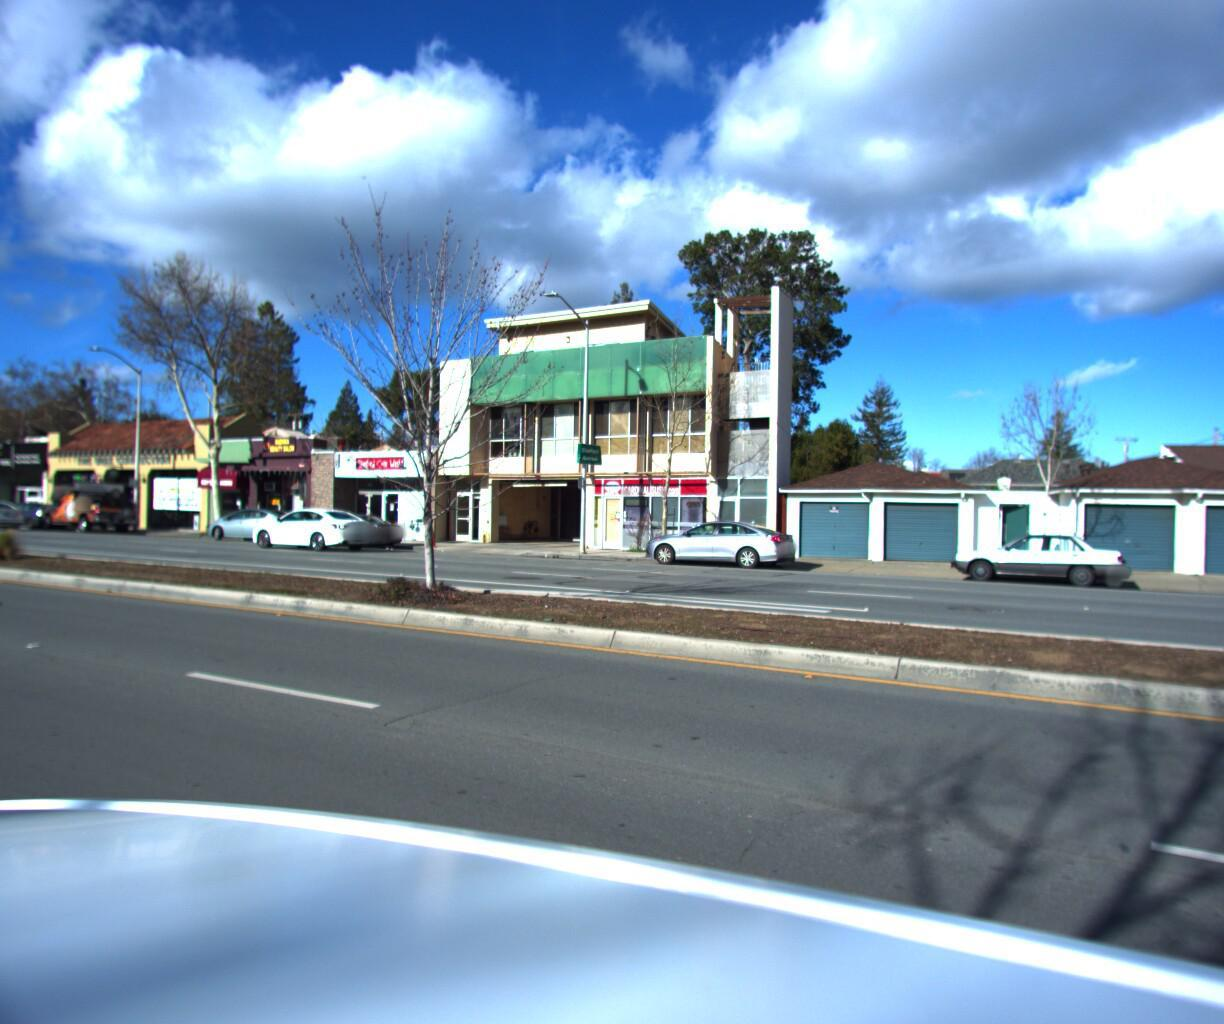car: (944, 530, 1133, 592), (636, 518, 802, 573), (246, 508, 387, 553), (39, 474, 140, 535), (296, 514, 408, 552), (200, 507, 308, 545), (0, 503, 76, 532), (0, 497, 29, 533)
